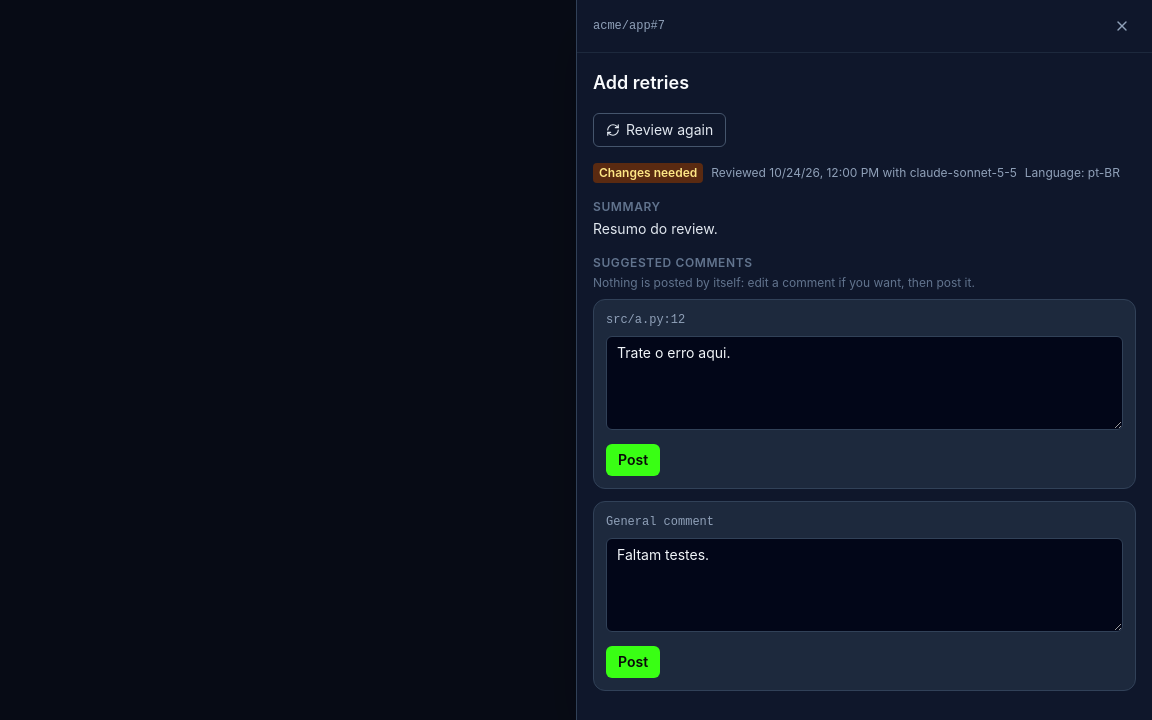
Test: ReviewPanel › posts the edited text of the clicked suggestion only
Replace the text in the text box named "Comment on src/a.py:12" with "Texto editado." at {"x": 864, "y": 383}, box [606,336,1123,430]
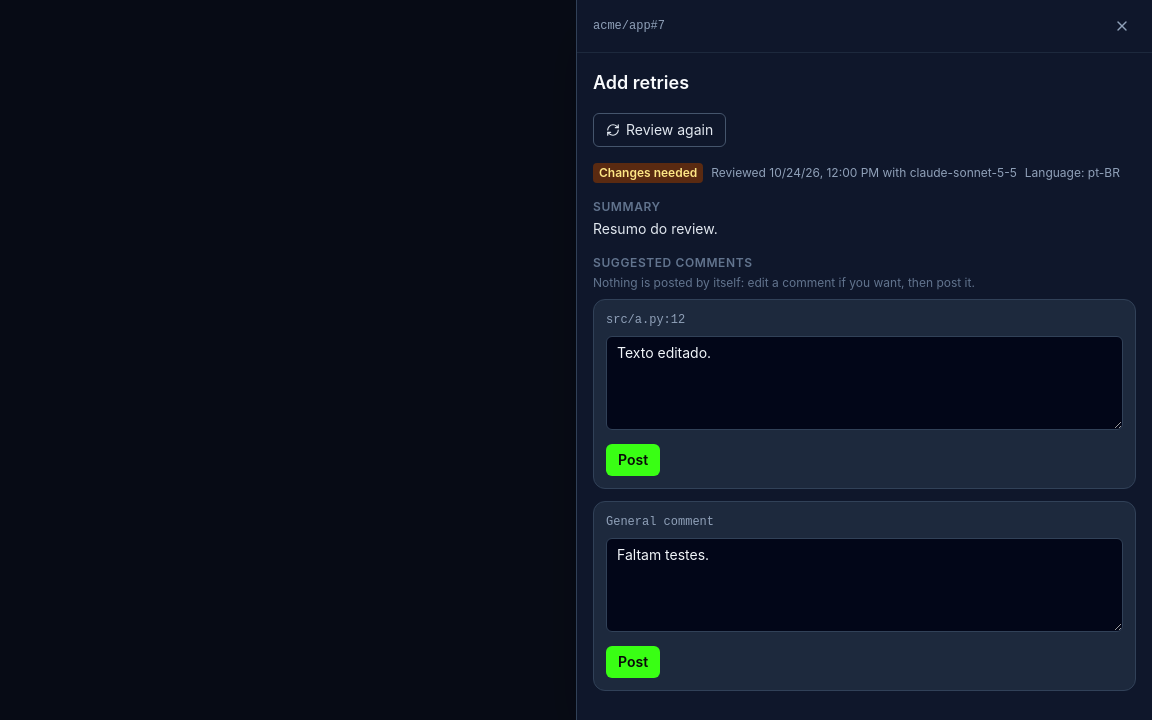
Click the button "Post" below "src/a.py:12" at {"x": 633, "y": 460}, box [606,444,660,476]
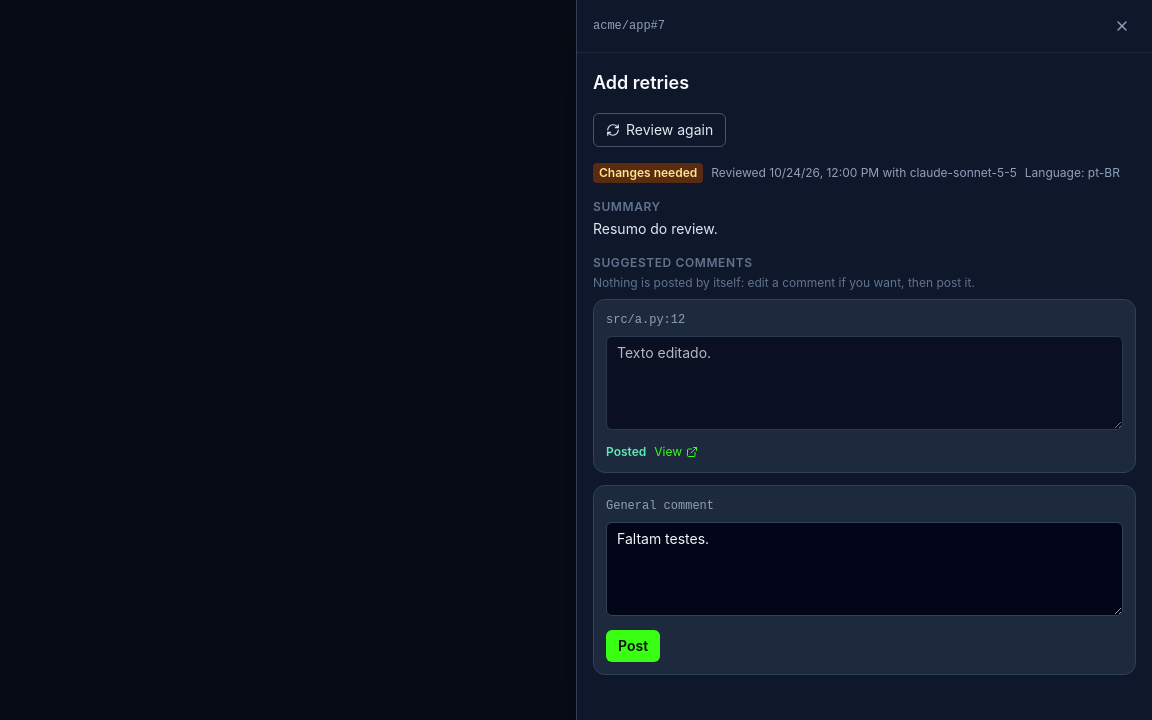
Check: the text "Posted" is shown, box [606,444,646,459]
Check: the text box named "Comment on src/a.py:12" is disabled, box [606,336,1123,430]
Check: the number of buttons "Post" is 1, box [606,630,660,662]
